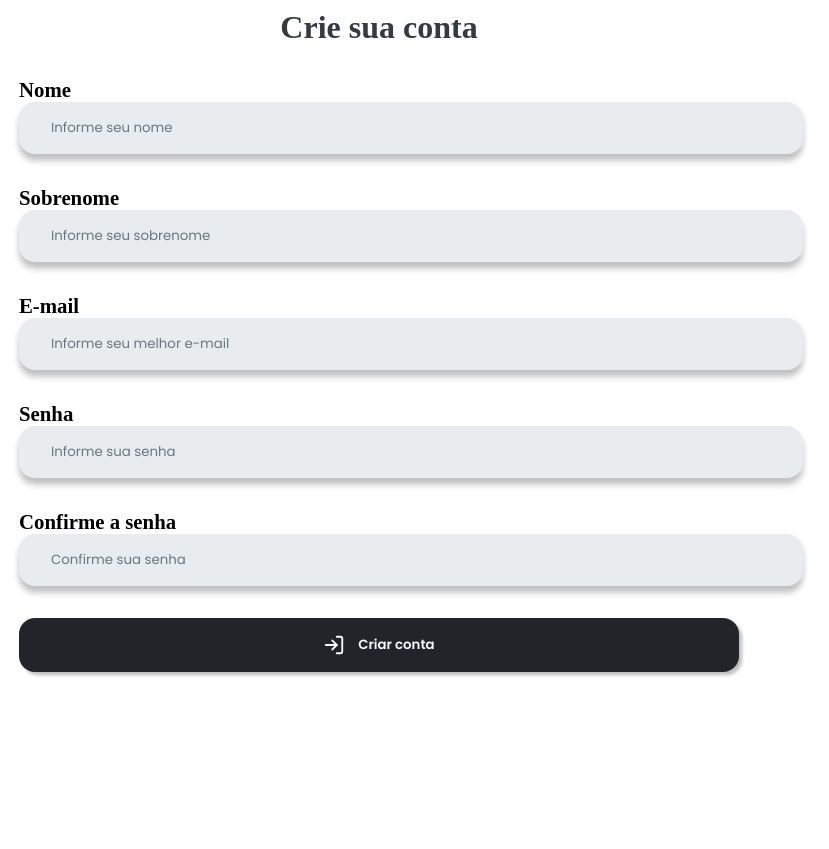
Test case: Sign Up › should show error when trying to submit without filling all required fields
Click the button "Criar conta" at (379, 645), box 19,618 -> 739,672
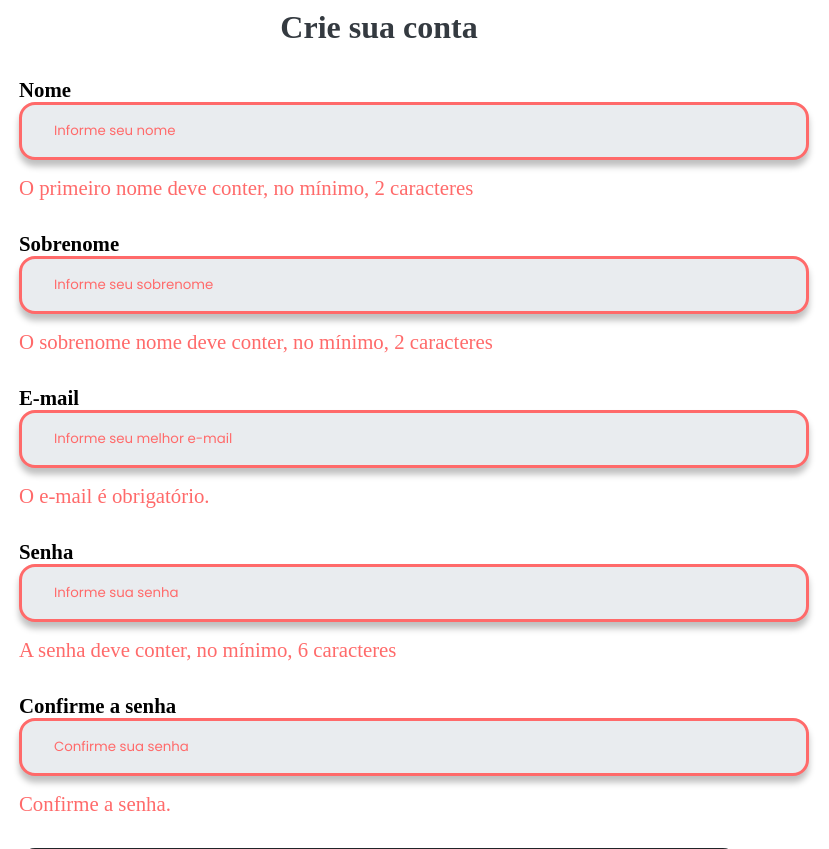
Expected: the text "O primeiro nome deve conter, no mínimo, 2 caracteres" is shown, 19,176 -> 473,199
Expected: the text "O sobrenome nome deve conter, no mínimo, 2 caracteres" is shown, 19,330 -> 493,353
Expected: the text "O e-mail é obrigatório." is shown, 19,484 -> 210,507
